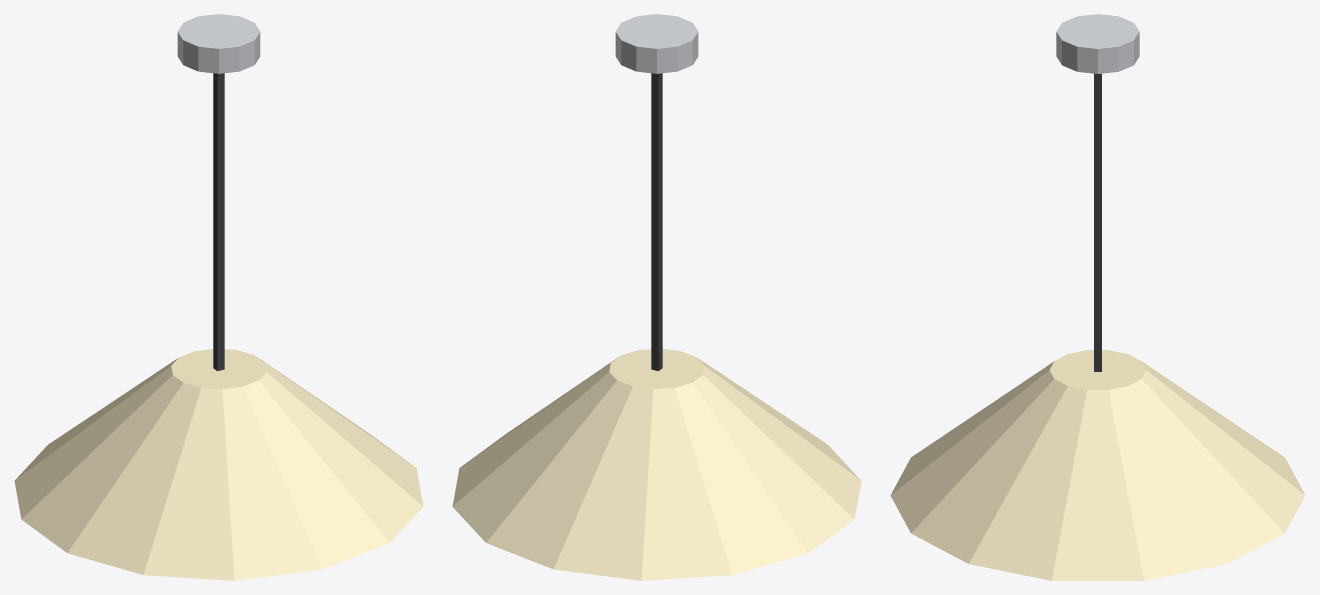
File: pendant_light.glb
3 views of the same model, side by side, from view 1: azimuth 30°, elevation 25°; view 2: azimuth 150°, elevation 25°; view 3: azimuth 270°, elevation 25° (orthographic).
Parts seen in each view (by area): view 1: pendant_light; view 2: pendant_light; view 3: pendant_light.
Part boxes in pixels (x1=…): pendant_light: x1=14, y1=14, x2=423, y2=580; pendant_light: x1=452, y1=14, x2=861, y2=580; pendant_light: x1=890, y1=14, x2=1305, y2=580.
Size of the model in its own units: 0.585 by 0.79 by 0.6.
